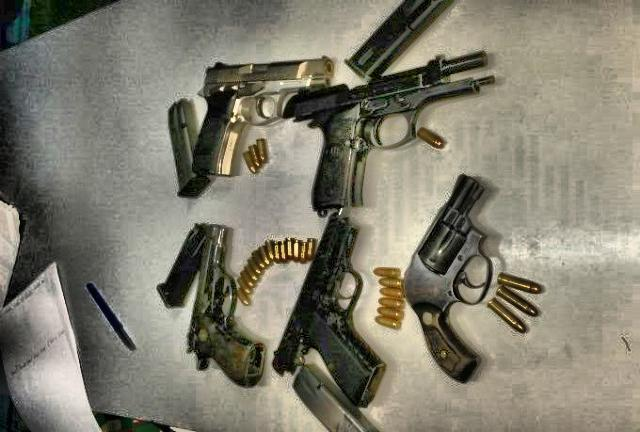pistol: (300, 48, 492, 216), (271, 203, 381, 405), (401, 172, 495, 380), (185, 53, 337, 176), (184, 224, 264, 390)
